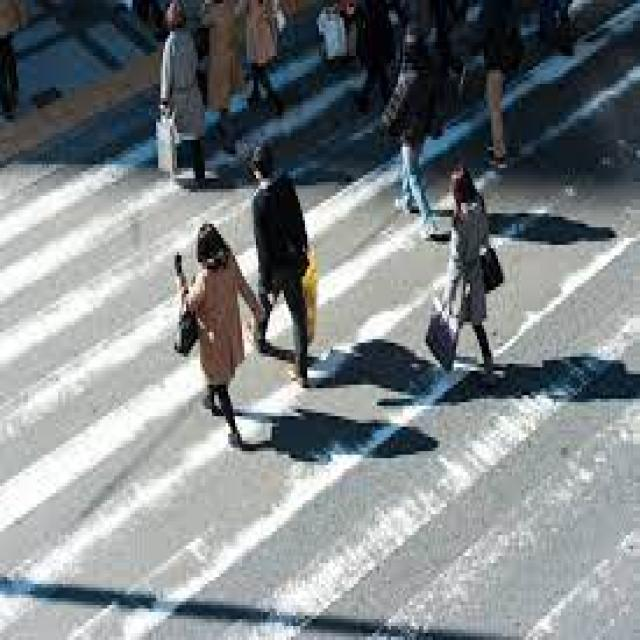Pedestrians: (170, 220, 261, 448), (242, 136, 319, 382), (435, 164, 498, 378), (153, 3, 210, 185)
